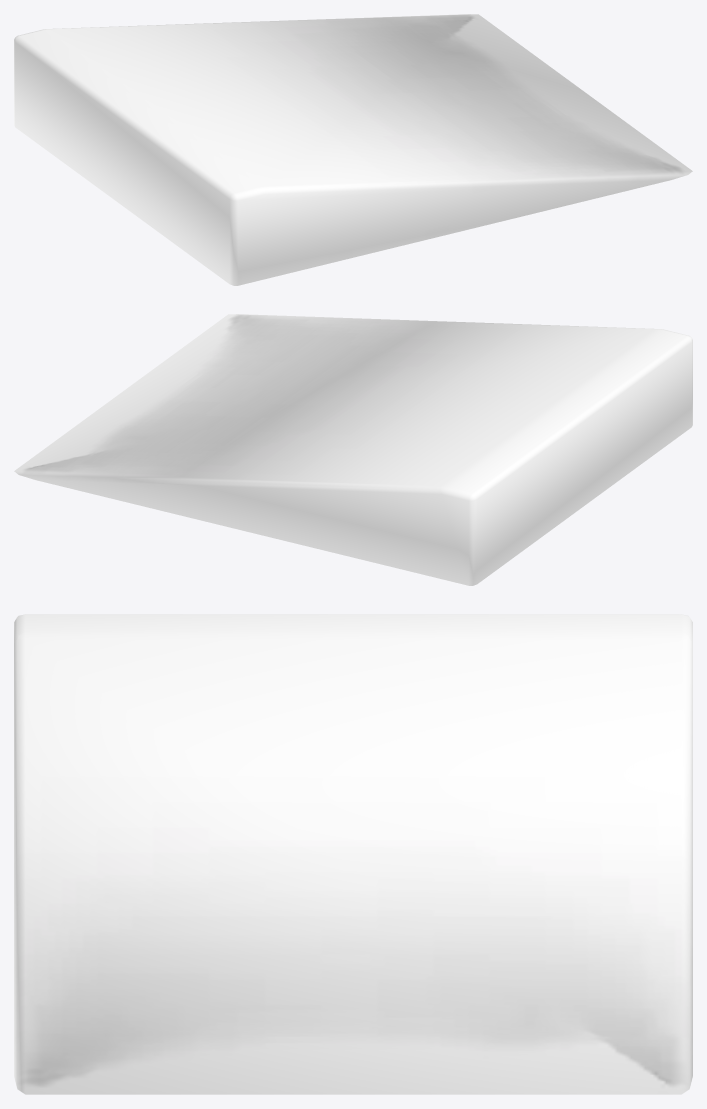
Rendered from rampa_01.glb.
3 renders of one model, top to bottom at view 1: azimuth 30°, elevation 25°; view 2: azimuth 150°, elevation 25°; view 3: azimuth 270°, elevation 25°, orthographic. The views are drawn at different scales.
Parts seen in each view (by area): view 1: rampa; view 2: rampa; view 3: rampa.
Boxes of the visible parts, x1,y1,x2,y2 form: rampa: [14, 14, 692, 285]; rampa: [14, 314, 692, 585]; rampa: [14, 614, 692, 1094].
Size of the model in its own units: 4.87 by 0.9034 by 4.04.
1 material, 1 textured.
